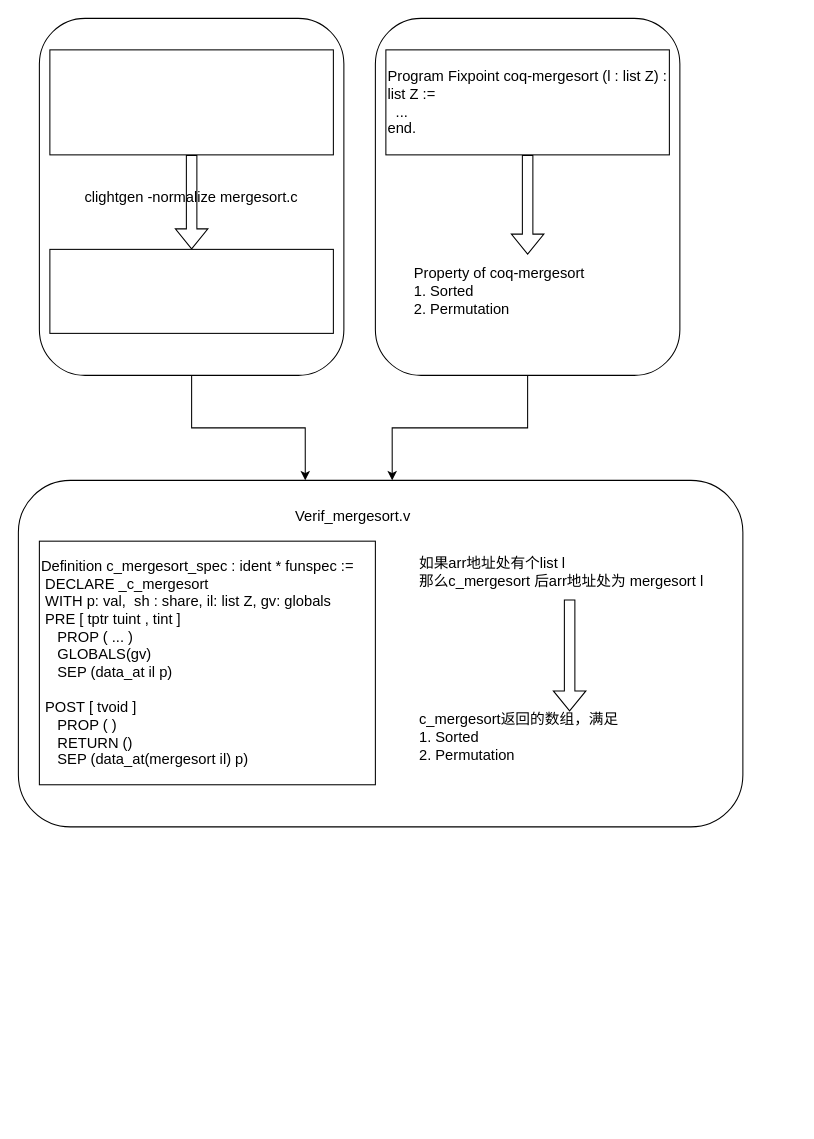
The diagram is 814 pixels wide and 1139 high, and some of its shapes have lost their labels. Here are the shapes that lost their labels. From the top down, the box of each, then its label:
(49, 49, 333, 155): // mergesort.c void mergesort(unsigned * arr, int p){ ... }
(49, 248, 333, 333): // mergesort.v don't need to read it
